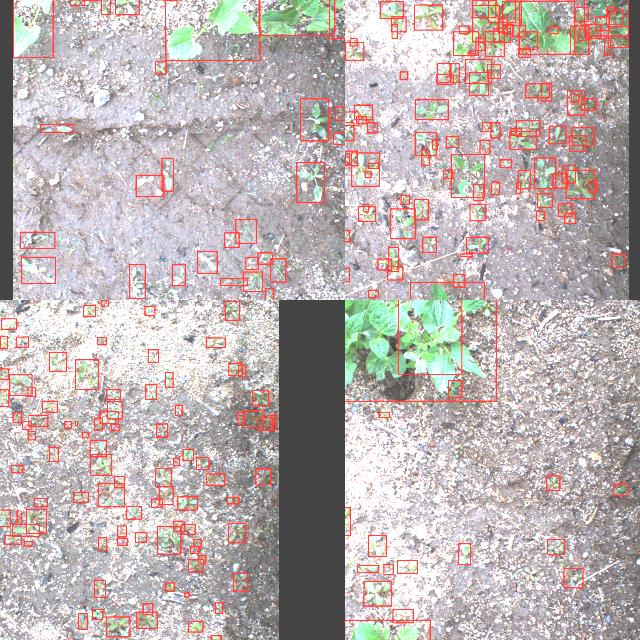crop: (345, 300, 495, 400), (164, 0, 259, 60), (520, 1, 574, 54), (258, 0, 334, 35), (12, 0, 52, 56), (452, 31, 478, 55), (329, 0, 345, 38)
weed: (397, 300, 461, 373), (584, 0, 628, 35), (450, 154, 484, 196), (410, 281, 484, 300), (300, 98, 328, 140), (296, 162, 324, 202), (472, 5, 498, 41), (351, 152, 379, 185), (20, 257, 54, 283), (566, 170, 594, 198), (413, 4, 442, 30), (390, 208, 414, 238), (74, 359, 98, 389), (534, 156, 556, 188), (364, 580, 391, 606), (414, 99, 448, 119), (157, 525, 181, 553), (465, 58, 491, 82), (98, 482, 124, 506), (135, 174, 163, 196), (487, 0, 514, 21), (128, 264, 144, 298), (20, 231, 54, 247), (570, 24, 588, 54), (484, 30, 504, 56), (414, 132, 436, 154), (236, 219, 256, 243), (106, 616, 130, 636), (25, 508, 45, 532), (509, 130, 535, 148), (468, 72, 488, 95), (197, 250, 217, 272), (9, 374, 31, 394), (566, 90, 584, 114), (502, 0, 520, 24), (472, 0, 496, 17), (242, 271, 262, 291), (608, 26, 628, 46), (90, 454, 110, 474), (161, 157, 173, 190), (572, 127, 594, 145), (368, 534, 386, 556), (270, 258, 286, 282), (515, 120, 539, 136), (380, 1, 402, 18), (518, 31, 538, 49), (228, 522, 246, 542), (564, 567, 582, 587), (466, 236, 488, 252), (136, 611, 158, 627), (48, 352, 66, 371), (243, 409, 263, 426), (114, 0, 138, 14), (525, 83, 549, 97), (548, 125, 566, 143), (345, 42, 363, 60), (155, 466, 171, 486), (12, 524, 38, 536), (413, 198, 427, 220), (353, 104, 371, 120), (606, 8, 624, 24), (546, 538, 564, 554), (436, 62, 450, 82), (225, 300, 239, 320), (469, 203, 485, 220), (458, 542, 470, 564), (177, 496, 197, 509), (40, 124, 72, 132), (552, 172, 568, 188), (570, 135, 586, 151), (390, 16, 406, 32), (90, 440, 106, 456), (106, 402, 122, 418), (233, 572, 247, 590), (159, 486, 173, 504), (172, 264, 184, 284), (388, 246, 398, 270), (28, 414, 48, 426), (392, 610, 412, 622), (397, 560, 417, 572), (494, 27, 511, 41), (447, 379, 461, 396), (386, 265, 402, 279), (358, 206, 374, 220), (422, 236, 436, 252), (536, 193, 552, 207), (585, 24, 601, 38), (188, 558, 204, 572), (256, 468, 270, 484), (252, 390, 268, 404), (546, 474, 560, 490), (518, 170, 530, 188), (562, 164, 574, 182), (100, 411, 118, 423), (224, 232, 238, 246), (486, 63, 500, 77), (574, 7, 588, 21), (595, 16, 609, 30), (256, 252, 272, 264), (580, 98, 596, 110), (126, 506, 142, 518), (558, 202, 572, 215), (345, 111, 358, 125), (258, 416, 272, 429), (541, 82, 551, 100), (449, 62, 458, 82), (206, 474, 224, 484), (206, 337, 224, 347), (94, 580, 105, 596), (219, 278, 247, 284), (246, 256, 258, 270), (377, 258, 391, 270), (512, 24, 526, 36), (612, 253, 624, 267), (228, 363, 242, 375), (613, 483, 627, 495), (357, 564, 378, 572), (345, 149, 356, 164), (1, 317, 16, 328), (473, 184, 483, 200), (490, 122, 500, 138), (436, 73, 452, 83), (4, 534, 20, 544), (72, 491, 88, 501), (42, 401, 56, 412), (0, 508, 9, 525), (154, 61, 166, 73), (77, 613, 86, 629), (196, 457, 208, 469), (83, 304, 95, 316), (156, 424, 168, 436), (479, 139, 489, 153), (497, 18, 507, 32), (188, 621, 202, 631), (48, 446, 58, 460), (106, 389, 120, 399), (146, 384, 156, 398), (148, 348, 158, 362), (181, 523, 195, 533), (0, 388, 8, 405), (345, 121, 352, 140), (333, 132, 345, 143), (182, 448, 194, 459), (335, 106, 345, 119), (15, 336, 28, 346), (454, 274, 464, 286), (564, 212, 576, 222), (446, 136, 458, 146), (142, 602, 152, 614), (134, 532, 146, 542), (172, 521, 184, 531), (100, 0, 109, 13), (421, 150, 429, 164), (476, 36, 484, 50), (98, 536, 106, 550), (165, 372, 173, 386), (345, 507, 349, 535), (265, 287, 273, 300), (491, 180, 499, 193), (604, 37, 610, 54), (367, 122, 377, 132), (503, 23, 513, 33), (92, 609, 102, 619), (114, 476, 124, 486), (383, 564, 393, 574), (499, 159, 511, 167), (588, 180, 596, 192), (518, 48, 530, 56), (578, 28, 586, 40), (10, 464, 22, 472), (34, 498, 46, 506), (94, 417, 102, 429), (150, 498, 162, 506), (238, 364, 246, 376), (270, 414, 276, 430), (116, 526, 125, 536), (0, 367, 8, 378), (391, 24, 397, 38), (0, 335, 7, 347), (536, 210, 544, 220), (482, 122, 492, 130), (458, 25, 468, 33), (548, 26, 558, 34), (214, 602, 222, 612), (228, 496, 238, 504), (12, 412, 20, 422), (27, 386, 35, 396), (144, 306, 154, 314), (174, 405, 182, 415), (236, 412, 244, 422), (400, 194, 408, 203), (443, 170, 452, 178), (22, 421, 31, 429), (96, 336, 105, 344), (571, 93, 579, 101), (607, 5, 615, 13), (166, 582, 174, 590), (193, 538, 201, 546), (198, 555, 206, 563), (367, 290, 377, 296), (367, 162, 377, 168), (511, 128, 521, 134), (355, 116, 365, 122), (117, 538, 127, 544), (28, 430, 34, 440), (378, 411, 388, 417), (70, 0, 84, 4), (345, 267, 349, 281), (399, 71, 406, 79), (349, 37, 356, 45), (16, 511, 20, 524), (211, 635, 221, 640), (23, 540, 31, 546), (190, 546, 198, 552), (111, 424, 119, 430), (173, 457, 179, 465), (345, 229, 349, 240), (362, 203, 368, 210), (516, 182, 520, 192), (432, 139, 436, 149), (364, 171, 370, 177), (64, 421, 70, 427), (100, 300, 107, 305), (460, 254, 472, 256), (82, 432, 88, 436), (184, 592, 188, 596), (468, 51, 474, 53), (75, 420, 77, 426)
